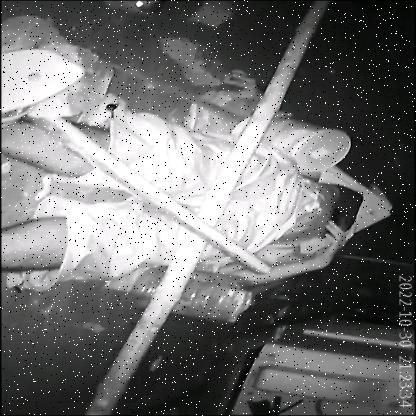hand: (264, 208, 358, 280), (216, 66, 268, 104)
